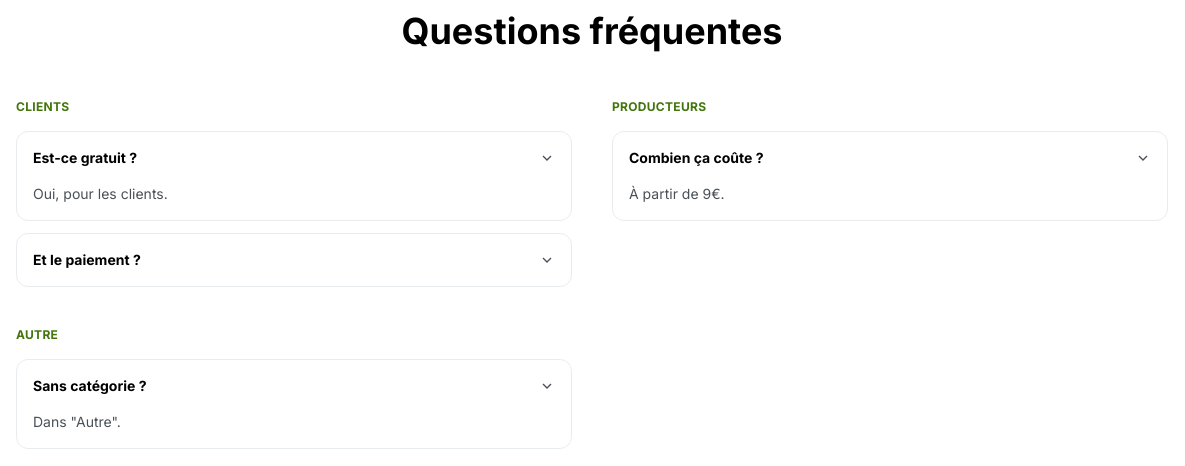
Scenario: FaqComponent › un seul accordéon ouvert par colonne, et un clic sur l'ouvert le referme
Click the button "Et le paiement ?" at (87, 260), box [17,234,571,286]
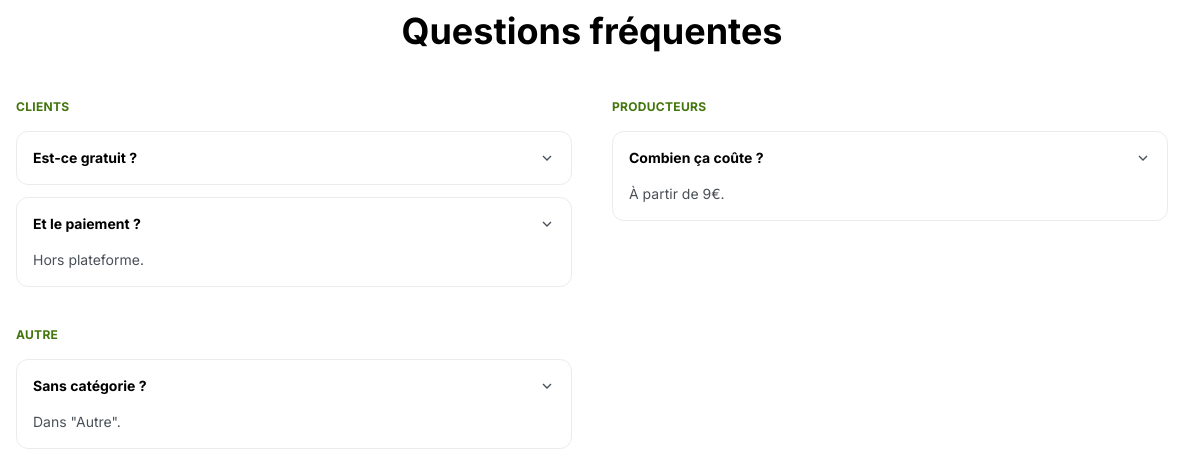
Expected: the text "À partir de 9€." is shown, [629,185,725,202]
Result: the text "Hors plateforme." is shown at [33,251,144,268]
Result: the text "Oui, pour les clients." is gone
Click the button "Et le paiement ?" at (87, 224), box [17,198,571,250]
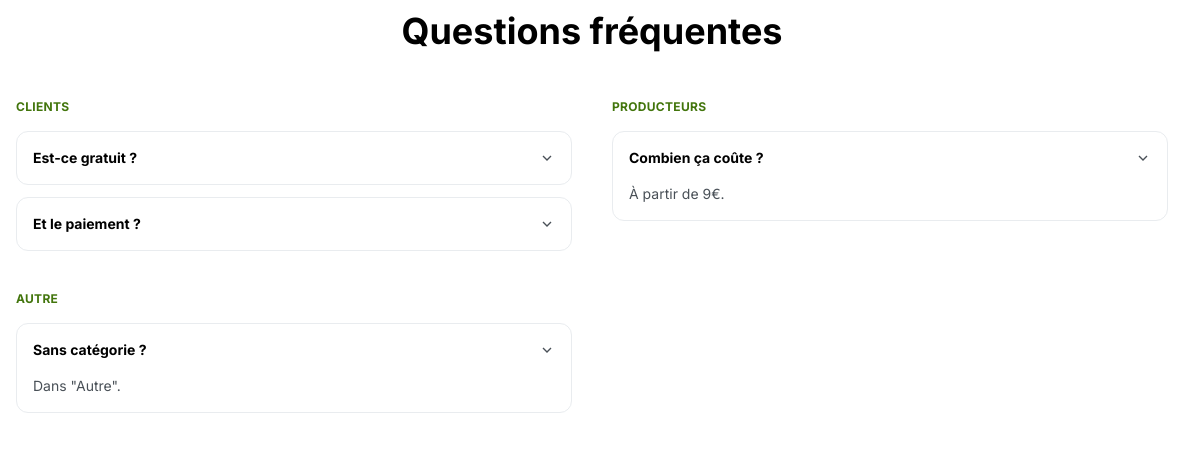
Result: the text "Hors plateforme." is gone
